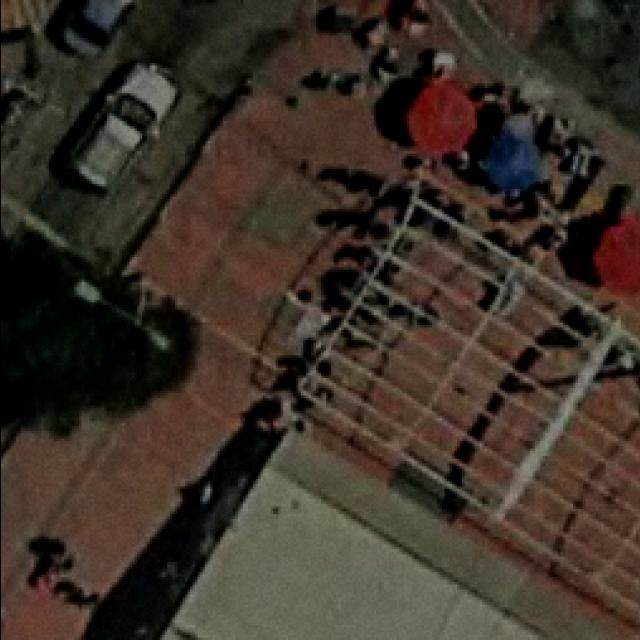vendedor_ambulante: (398, 79, 476, 157), (587, 220, 640, 300), (476, 128, 542, 192)
